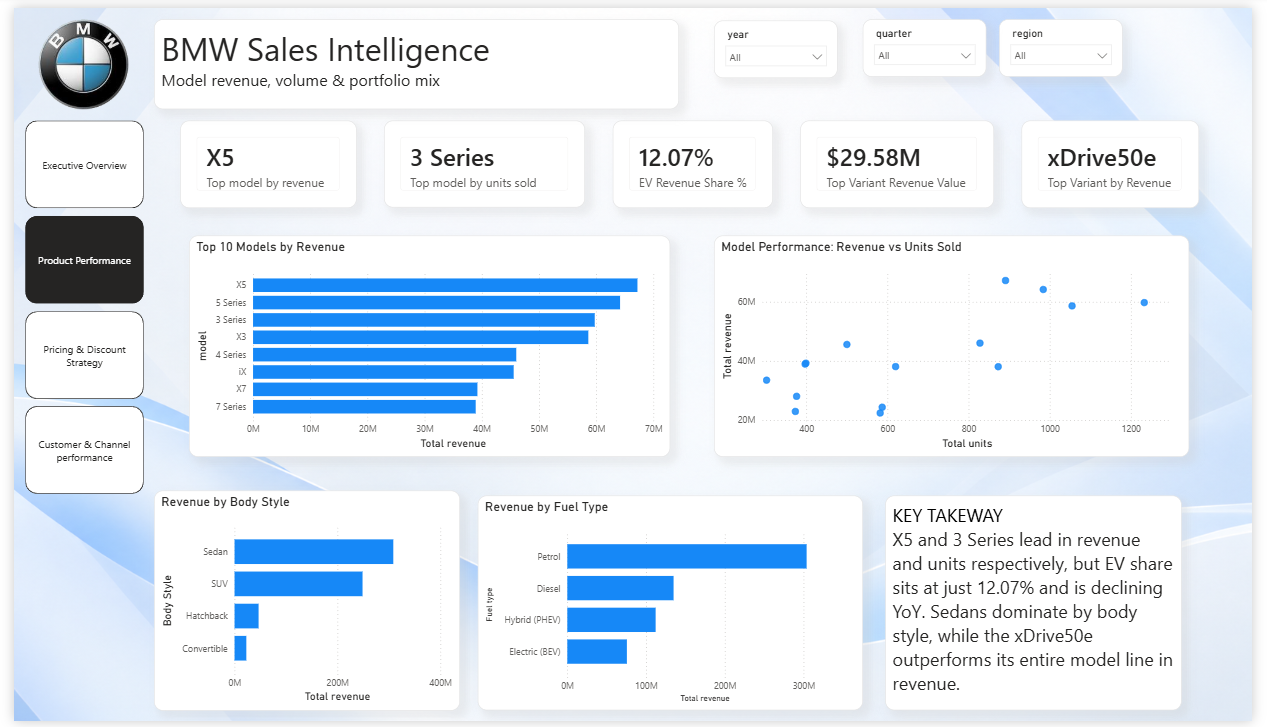

What the dashboard file says about the page in this screenshot:
{"tool":"powerbi","page":{"name":"Product Performance","canvas":[1650,950],"ordinal":1},"visuals":[{"type":"image","box":[0,0,1651,951],"z":0},{"type":"clusteredBarChart","title":"Top 10 Models by Revenue","fields":{"Category":["public dimmodel.model"],"Y":["public factsales.Total revenue"]},"box":[233.3,303.3,641.7,295],"z":1000},{"type":"scatterChart","title":"Model Performance: Revenue vs Units Sold","fields":{"Category":["public dimmodel.model"],"X":["public dimcustomer.Total units"],"Y":["public factsales.Total revenue"]},"box":[933.3,303.3,633.3,295],"z":2000},{"type":"clusteredBarChart","title":"Revenue by Body Style","fields":{"Category":["public dimmodel.body_style"],"Y":["public factsales.Total revenue"]},"box":[186.7,643.3,408.3,293.3],"z":3000},{"type":"clusteredBarChart","title":"Revenue by Fuel Type","fields":{"Category":["public dimmodel.fuel_type"],"Y":["public factsales.Total revenue"]},"box":[618.3,650,513.3,286.7],"z":4000},{"type":"cardVisual","fields":{"Data":["public dimmodel.Top model by revenue"]},"box":[221.7,150,235,116.7],"z":5000},{"type":"cardVisual","fields":{"Data":["public dimmodel.Top Model Revenue Value"]},"box":[493.4,150,268,116],"z":6000},{"type":"cardVisual","fields":{"Data":["public dimmodel.EV Revenue Share %"]},"box":[798.2,150,213.3,116.7],"z":7000},{"type":"cardVisual","fields":{"Data":["public dimmodel.Top Variant by Revenue"]},"box":[1343.3,150,236.7,116.7],"z":8000},{"type":"cardVisual","fields":{"Data":["public dimmodel.Top Variant Revenue Value"]},"box":[1048.2,150,258.3,116.7],"z":9000},{"type":"slicer","fields":{"Values":["public dimdate.year"]},"box":[934,16,165,77],"z":10000},{"type":"pageNavigator","box":[15,150,158,500],"z":11000},{"type":"textbox","box":[186,15,700,120],"z":12000},{"type":"slicer","fields":{"Values":["public dimregion.region"]},"box":[1313.3,15,165,77],"z":13000},{"type":"slicer","fields":{"Values":["public dimdate.quarter"]},"box":[1131.7,15,165,77],"z":14000},{"type":"image","box":[13.3,15,158.3,120],"z":15000},{"type":"textbox","box":[1161.7,650,395,286.7],"z":16000}]}

Visuals, with their boxes in screenshot pixels (x1, y1, x2, y2), scaled from the page's 1650x950 canvas onto the 1267x727 screenshot:
image: region(0, 0, 1266, 726)
"Top 10 Models by Revenue" clusteredBarChart: region(179, 232, 672, 458)
"Model Performance: Revenue vs Units Sold" scatterChart: region(717, 232, 1203, 458)
"Revenue by Body Style" clusteredBarChart: region(143, 492, 457, 717)
"Revenue by Fuel Type" clusteredBarChart: region(475, 497, 869, 717)
cardVisual - public dimmodel.Top model by revenue: region(170, 115, 351, 204)
cardVisual - public dimmodel.Top Model Revenue Value: region(379, 115, 585, 204)
cardVisual - public dimmodel.EV Revenue Share %: region(613, 115, 777, 204)
cardVisual - public dimmodel.Top Variant by Revenue: region(1031, 115, 1213, 204)
cardVisual - public dimmodel.Top Variant Revenue Value: region(805, 115, 1003, 204)
slicer - public dimdate.year: region(717, 12, 844, 71)
pageNavigator: region(12, 115, 133, 497)
textbox: region(143, 11, 680, 103)
slicer - public dimregion.region: region(1008, 11, 1135, 70)
slicer - public dimdate.quarter: region(869, 11, 996, 70)
image: region(10, 11, 132, 103)
textbox: region(892, 497, 1195, 717)
